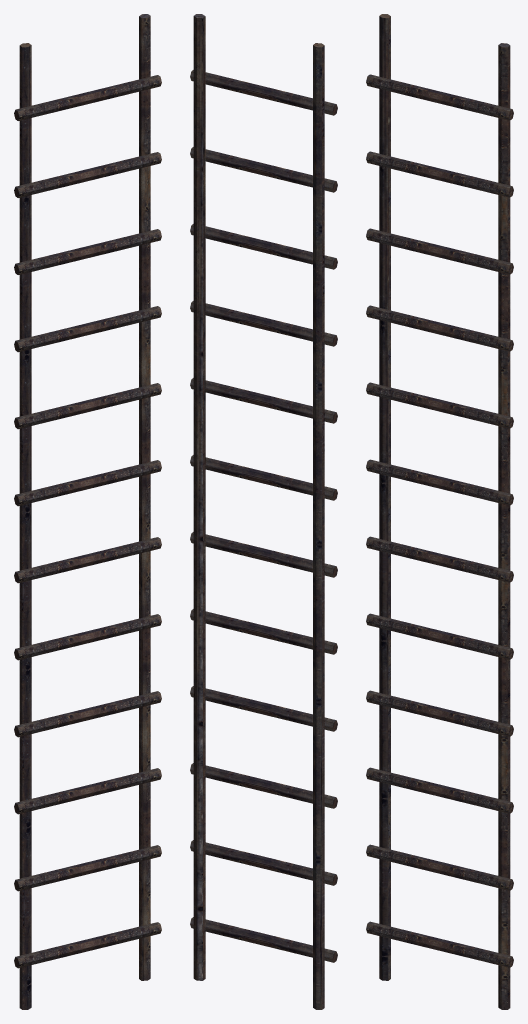
The model's file is ladder.fbx.
The picture shows the model from 3 angles, left to right: view 1: azimuth 30°, elevation 25°; view 2: azimuth 150°, elevation 25°; view 3: azimuth 330°, elevation 25°; orthographic projection.
Visible parts, largest first — view 1: Ladder; view 2: Ladder; view 3: Ladder.
Boxes of the visible parts, x1=… form: Ladder: x1=14, y1=14, x2=161, y2=1009; Ladder: x1=190, y1=14, x2=337, y2=1009; Ladder: x1=366, y1=14, x2=513, y2=1009.
Size of the model in its own units: 0.6202 by 4 by 0.0685.
1 material, 1 textured.
